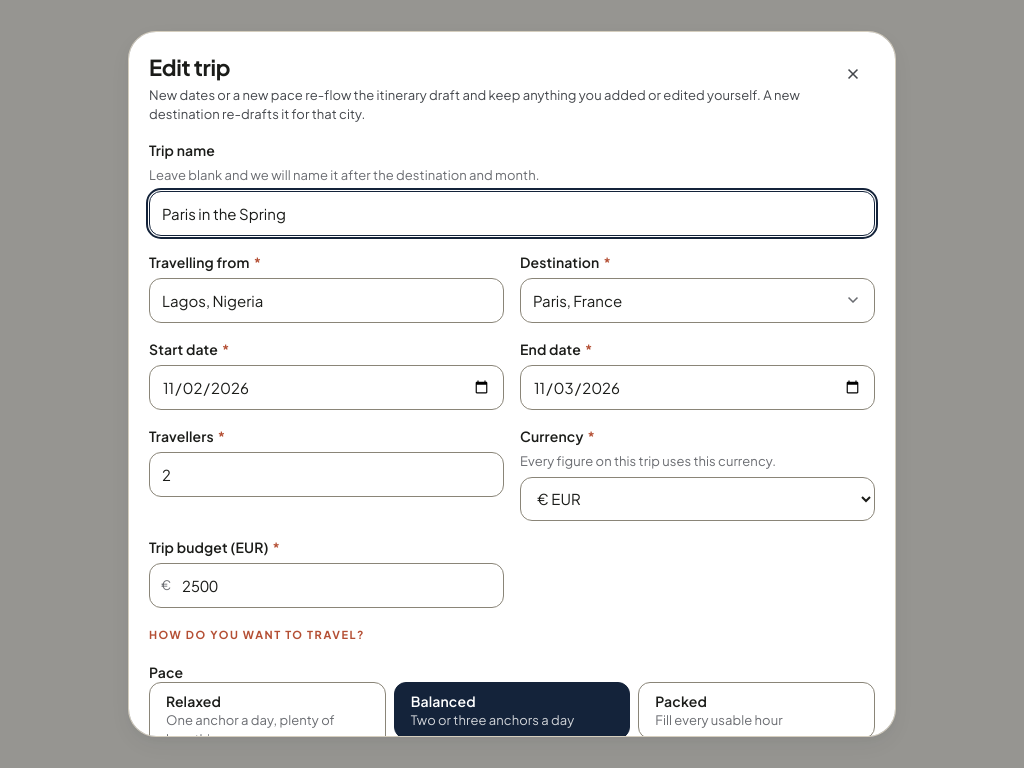
it: error summary focus: Edit trip › leaves a whole typed word, and focus, in the field after a failed submit
Clear the field labelled "Travelling from*": (326, 300) [149,278,504,323]
(page scrolled)
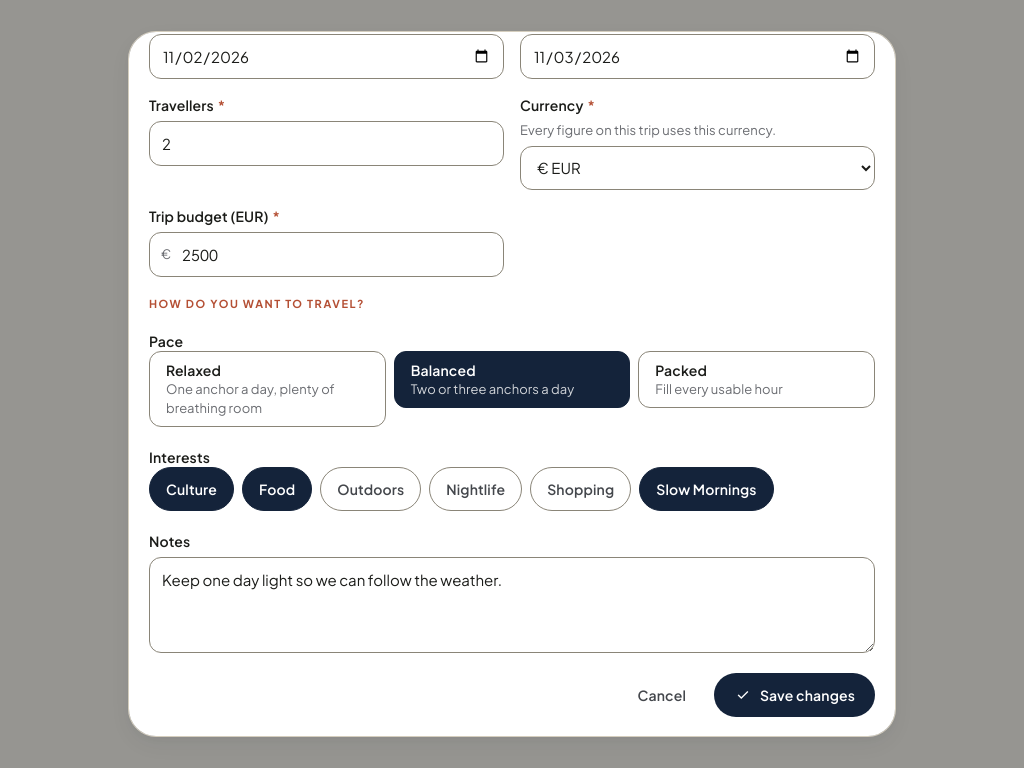
Click the button "Save changes": (794, 695) [714,673,875,717]
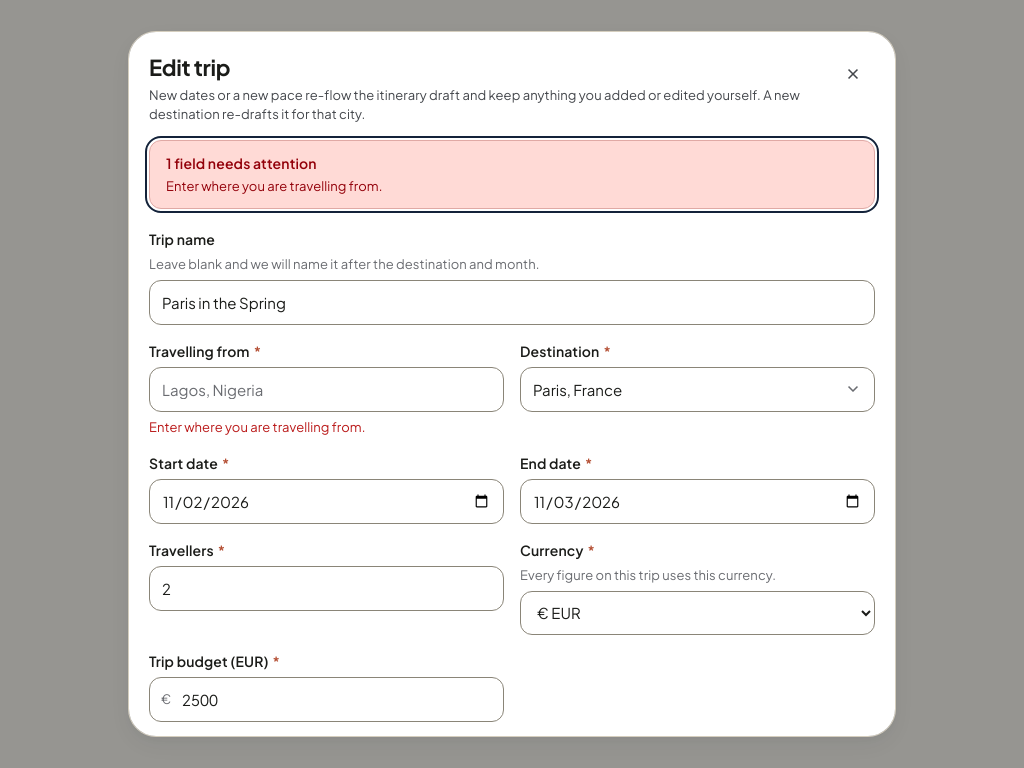
Click the field labelled "Travelling from*": (326, 389) [149,367,504,412]
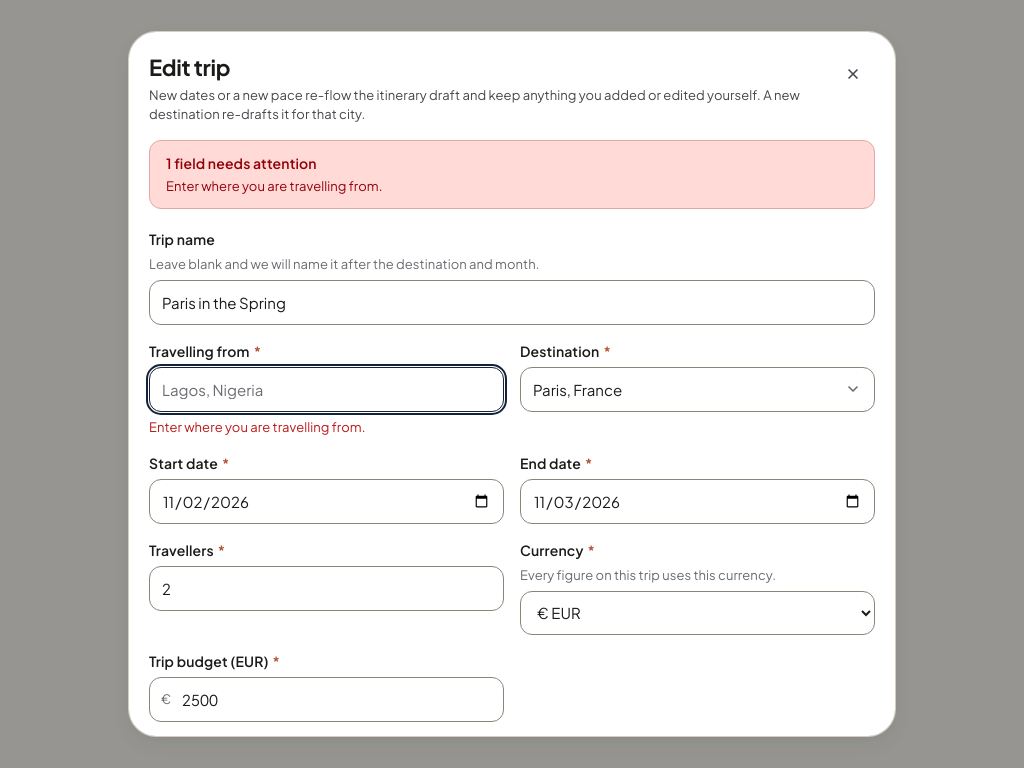
Type keys "Lagos"
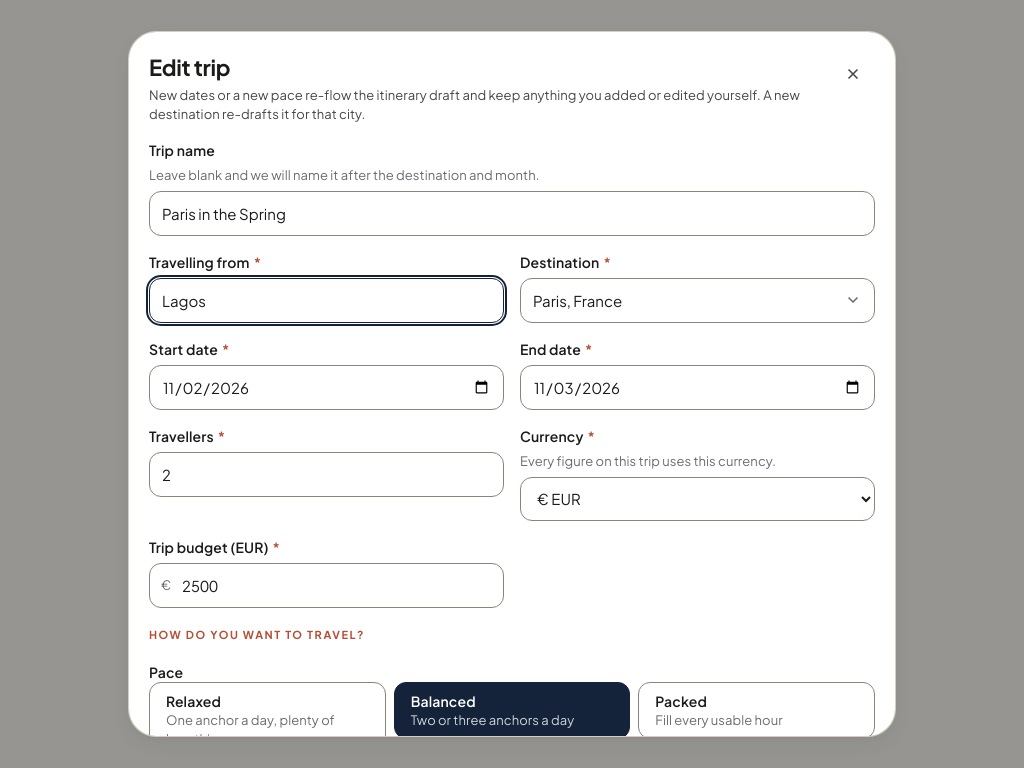
Result: the field labelled "Travelling from*" holds "Lagos" at [149,278,504,323]
